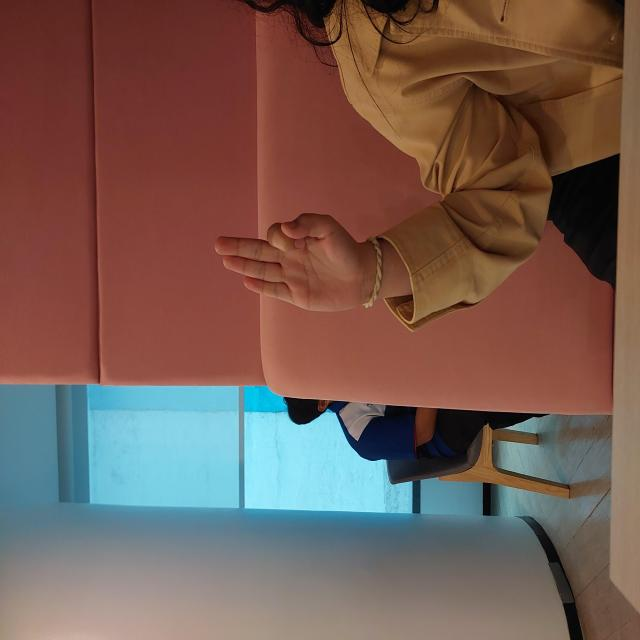F: (323, 208, 434, 378)
